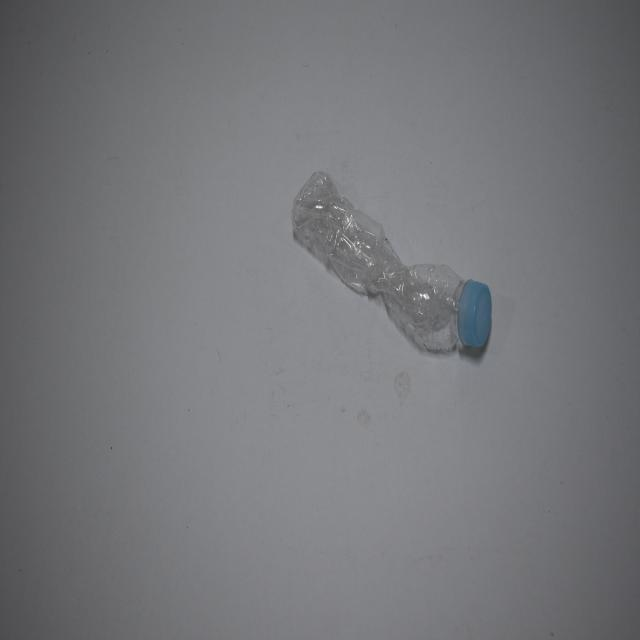bottle: (290, 168, 493, 360)
